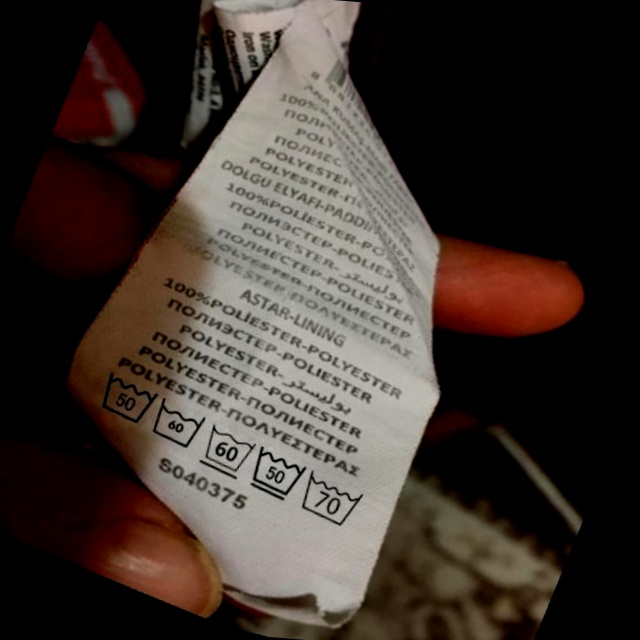50C: (86, 360, 168, 435), (239, 439, 315, 511)
60C: (193, 417, 265, 486), (142, 391, 215, 459)
70C: (292, 466, 375, 536)
